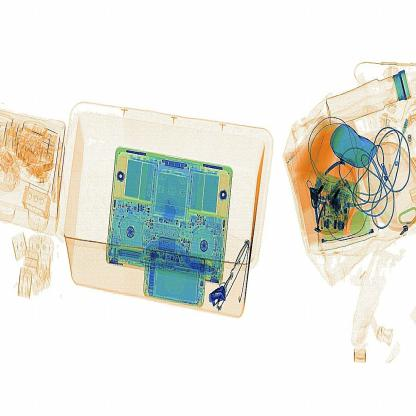knife: (204, 278, 230, 314)
